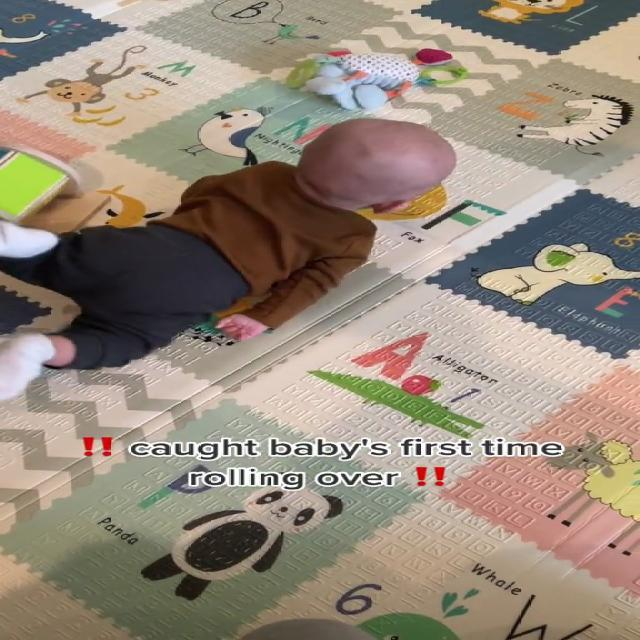baby: (0, 109, 467, 419)
